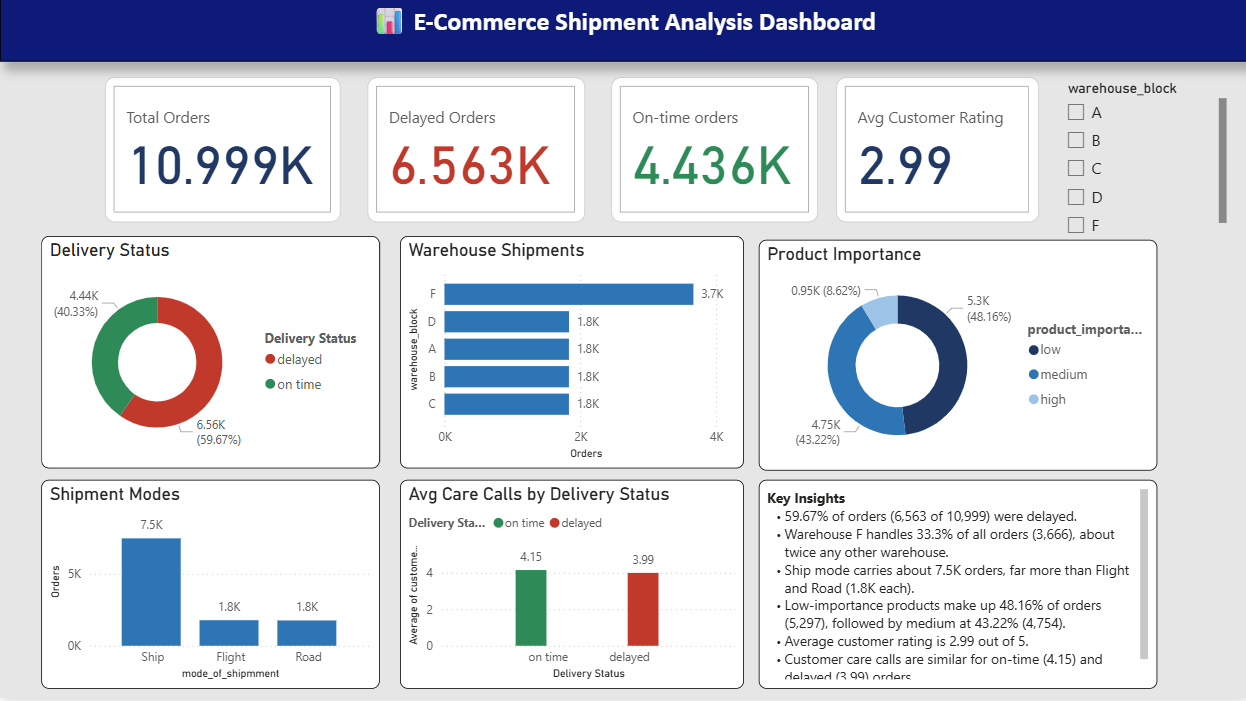

The dashboard page shown, as its layout file describes it:
{"tool":"powerbi","page":{"name":"Page 1","canvas":[1280,720],"ordinal":0},"visuals":[{"type":"cardVisual","fields":{"Data":["CountNonNull(ecommerce shipping_analysis.id)"]},"box":[62.1,83.7,241.7,148.6],"z":0},{"type":"cardVisual","fields":{"Data":["ecommerce shipping_analysis.Avg Rating"]},"box":[768.4,83.7,208,148.6],"z":1000},{"type":"cardVisual","fields":{"Data":["ecommerce shipping_analysis.Avg Discount Offered"]},"box":[985.9,83.7,216.1,148.6],"z":2000},{"type":"donutChart","title":"Delivery Status","fields":{"Y":["CountNonNull(ecommerce shipping_analysis.id)"],"Category":["ecommerce shipping_analysis.Delivery Status"]},"box":[212,244.4,278.2,239],"z":3000},{"type":"clusteredBarChart","title":"Warehouse Shipments","fields":{"Y":["CountNonNull(ecommerce shipping_analysis.id)"],"Category":["ecommerce shipping_analysis.warehouse_block"]},"box":[499.7,244.4,407.9,239],"z":4000},{"type":"clusteredColumnChart","title":"Shipment Modes","fields":{"Category":["ecommerce shipping_analysis.mode_of_shipmment"],"Y":["CountNonNull(ecommerce shipping_analysis.id)"]},"box":[126.9,494.3,297.1,214.7],"z":5000},{"type":"clusteredBarChart","title":"Warehouse Ratings","fields":{"Category":["ecommerce shipping_analysis.warehouse_block"],"Y":["Avg(ecommerce shipping_analysis.customer_rating)"]},"box":[433.5,494.3,367.3,214.7],"z":6000},{"type":"pieChart","title":"Customer Gender","fields":{"Category":["ecommerce shipping_analysis.gender"],"Y":["CountNonNull(ecommerce shipping_analysis.id)"]},"box":[918.3,244.4,297.1,239],"z":7000},{"type":"slicer","fields":{"Values":["ecommerce shipping_analysis.warehouse_block"]},"box":[20.3,244.4,181,182.3],"z":8000},{"type":"donutChart","title":"Product Importance","fields":{"Category":["ecommerce shipping_analysis.product_importance"],"Y":["CountNonNull(ecommerce shipping_analysis.id)"]},"box":[814.4,494.3,322.8,214.7],"z":9000},{"type":"cardVisual","fields":{"Data":["CountNonNull(ecommerce shipping_analysis.id)"]},"box":[313.3,83.7,222.8,148.6],"z":10000},{"type":"cardVisual","fields":{"Data":["CountNonNull(ecommerce shipping_analysis.id)"]},"box":[545.6,83.7,212,148.6],"z":11000},{"type":"textbox","box":[0,0,1280.3,67.5],"z":11001}]}

Visuals, with their boxes in screenshot pixels (x1, y1, x2, y2), scaled from the page's 1280x720 canvas onto the 1246x701 screenshot:
cardVisual - CountNonNull(ecommerce shipping_analysis.id): rect(60, 81, 296, 226)
cardVisual - ecommerce shipping_analysis.Avg Rating: rect(748, 81, 950, 226)
cardVisual - ecommerce shipping_analysis.Avg Discount Offered: rect(960, 81, 1170, 226)
"Delivery Status" donutChart: rect(206, 238, 477, 471)
"Warehouse Shipments" clusteredBarChart: rect(486, 238, 883, 471)
"Shipment Modes" clusteredColumnChart: rect(124, 481, 413, 690)
"Warehouse Ratings" clusteredBarChart: rect(422, 481, 780, 690)
"Customer Gender" pieChart: rect(894, 238, 1183, 471)
slicer - ecommerce shipping_analysis.warehouse_block: rect(20, 238, 196, 415)
"Product Importance" donutChart: rect(793, 481, 1107, 690)
cardVisual - CountNonNull(ecommerce shipping_analysis.id): rect(305, 81, 522, 226)
cardVisual - CountNonNull(ecommerce shipping_analysis.id): rect(531, 81, 737, 226)
textbox: rect(0, 0, 1245, 66)
